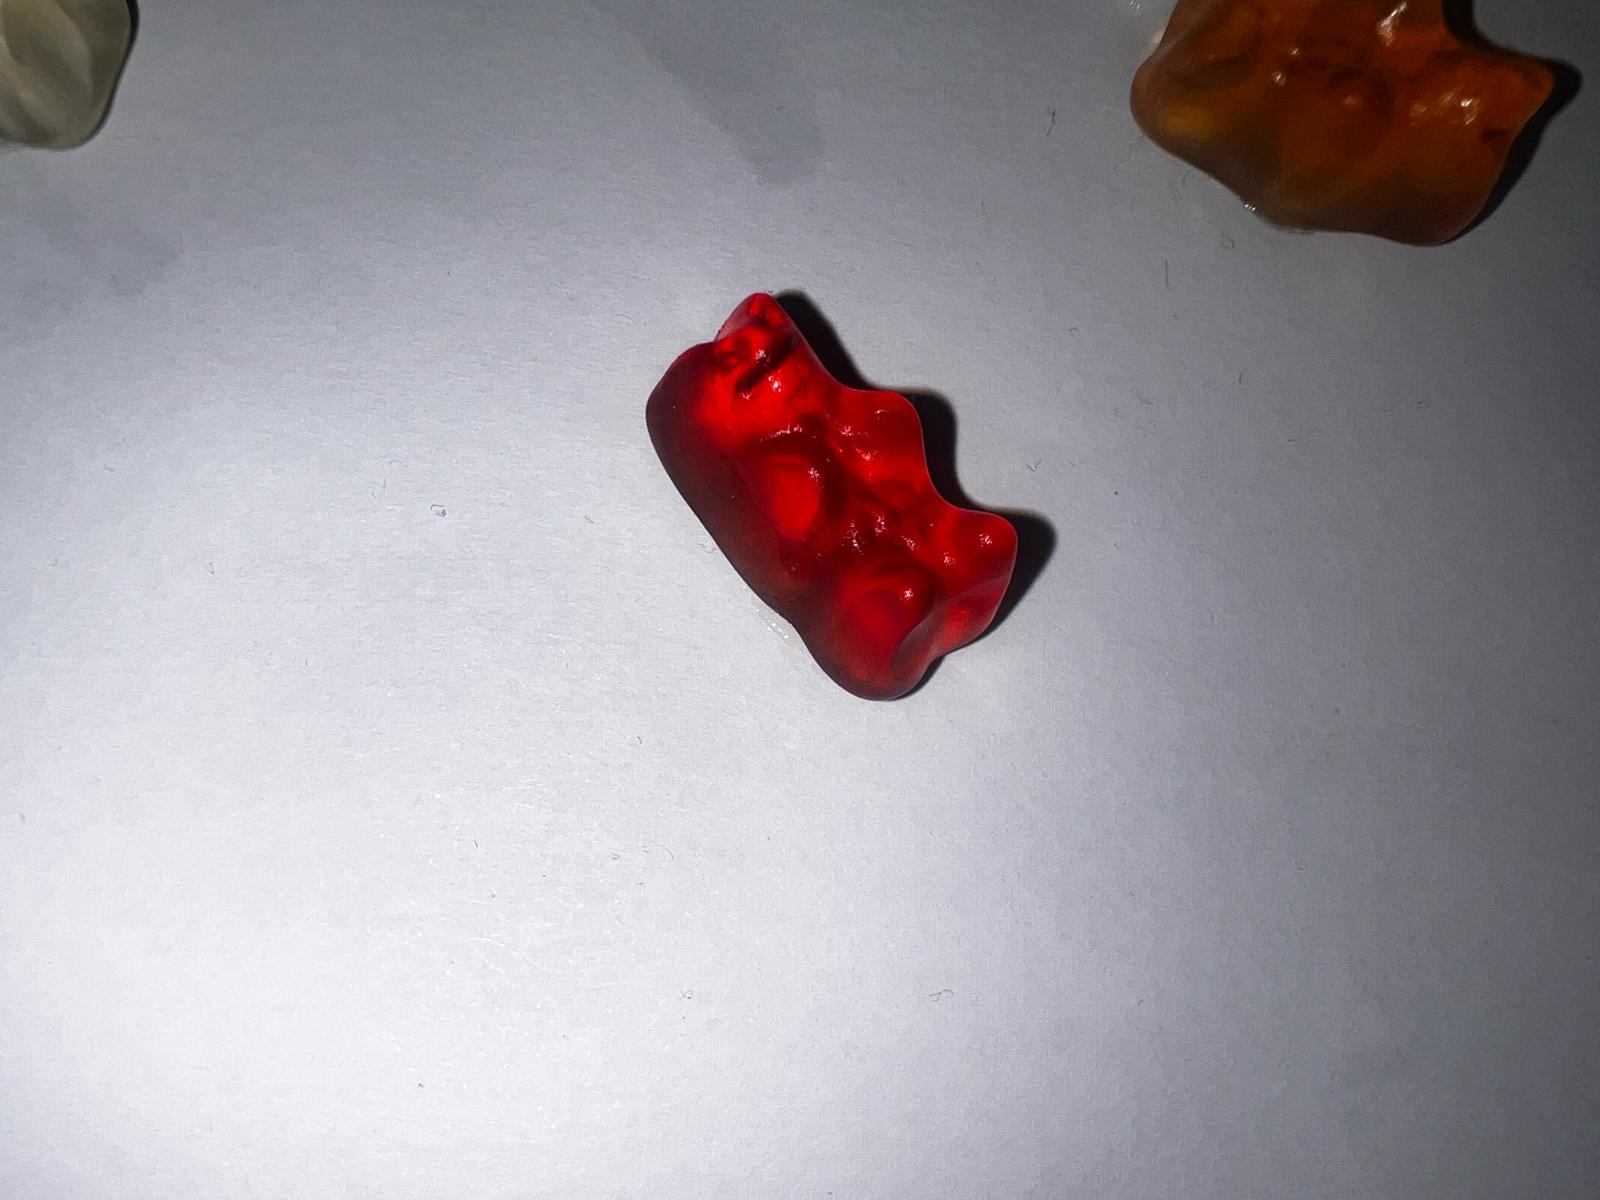gummybear: (636, 282, 1070, 705)
